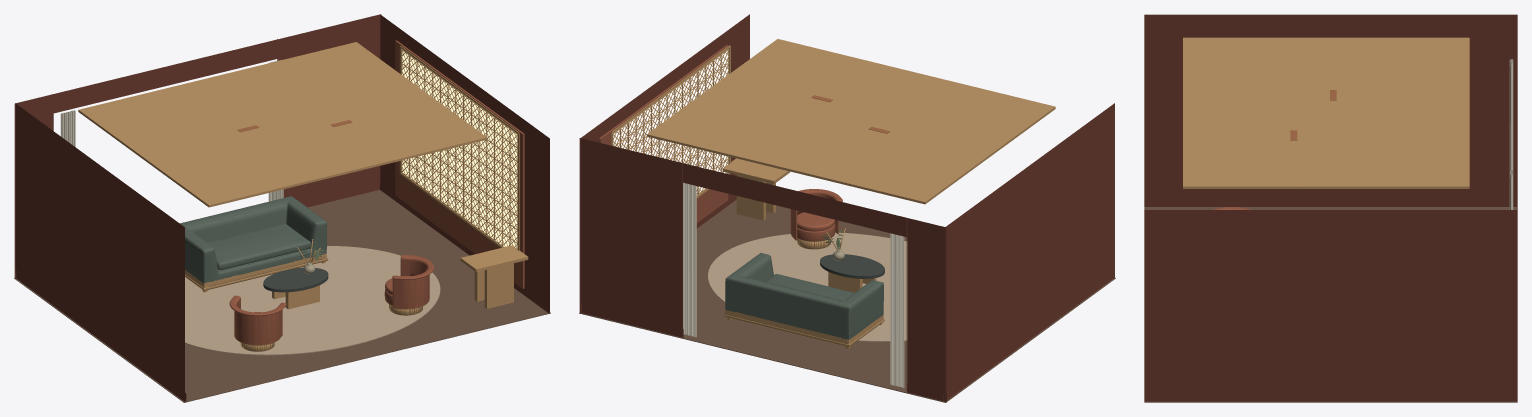
File: great-2.glb
3 views of the same model, side by side, from view 1: azimuth 30°, elevation 25°; view 2: azimuth 150°, elevation 25°; view 3: azimuth 270°, elevation 25° (orthographic). The views are drawn at different scales.
Parts seen in each view (by area): view 1: DESIGN | great removable wall finish, DESIGN | Social ceiling field, DESIGN | great floor finish, DESIGN | Great room primary ground, DESIGN | Kumiko | Long luminous room backdrop, DESIGN | Great room sofa facing conversation, DESIGN | Long luminous room backdrop diffuse backing, DESIGN | Clay conversation wall, DESIGN | Required Bellustar swivel chair two, DESIGN | Required Bellustar swivel chair one, DESIGN | Great room conversation table top, DESIGN | Occasional work and tea ledge trestle (+3 smaller); view 2: DESIGN | great removable wall finish, DESIGN | Social ceiling field, DESIGN | great floor finish, DESIGN | Great room sofa facing conversation, DESIGN | Great room primary ground, DESIGN | Kumiko | Long luminous room backdrop, DESIGN | Long luminous room backdrop diffuse backing, DESIGN | Great room soft window edge, DESIGN | Great room soft window edge.001, DESIGN | Required Bellustar swivel chair two, DESIGN | Great room conversation table top, DESIGN | Clay conversation wall (+3 smaller); view 3: DESIGN | great removable wall finish, DESIGN | Social ceiling field, DESIGN | great floor finish, DESIGN | Great room soft window edge.
Part boxes in pixels (x1,y1,x2,y2): DESIGN | great removable wall finish: (14, 14, 549, 401); DESIGN | Social ceiling field: (78, 42, 486, 207); DESIGN | great floor finish: (14, 190, 550, 402); DESIGN | Great room primary ground: (185, 246, 440, 355); DESIGN | Kumiko | Long luminous room backdrop: (399, 46, 519, 250); DESIGN | Great room sofa facing conversation: (180, 196, 328, 292); DESIGN | Long luminous room backdrop diffuse backing: (402, 51, 517, 247); DESIGN | Clay conversation wall: (395, 40, 524, 288); DESIGN | Required Bellustar swivel chair two: (384, 254, 434, 315); DESIGN | Required Bellustar swivel chair one: (229, 295, 286, 351); DESIGN | Great room conversation table top: (263, 267, 328, 292); DESIGN | Occasional work and tea ledge trestle: (484, 263, 513, 308); DESIGN | great removable wall finish: (579, 14, 1114, 401); DESIGN | Social ceiling field: (647, 39, 1055, 204); DESIGN | great floor finish: (579, 200, 1115, 402); DESIGN | Great room sofa facing conversation: (724, 253, 884, 348); DESIGN | Great room primary ground: (708, 232, 907, 341); DESIGN | Kumiko | Long luminous room backdrop: (611, 45, 730, 198); DESIGN | Long luminous room backdrop diffuse backing: (613, 51, 728, 194); DESIGN | Great room soft window edge: (890, 233, 904, 387); DESIGN | Great room soft window edge.001: (683, 182, 696, 337); DESIGN | Required Bellustar swivel chair two: (790, 189, 842, 249); DESIGN | Great room conversation table top: (820, 254, 884, 278); DESIGN | Clay conversation wall: (599, 45, 728, 222); DESIGN | great removable wall finish: (1144, 14, 1517, 401); DESIGN | Social ceiling field: (1183, 37, 1469, 188); DESIGN | great floor finish: (1144, 207, 1517, 402); DESIGN | Great room soft window edge: (1509, 59, 1513, 170).
Size of the model in its own units: 6 by 2.74 by 4.82.
